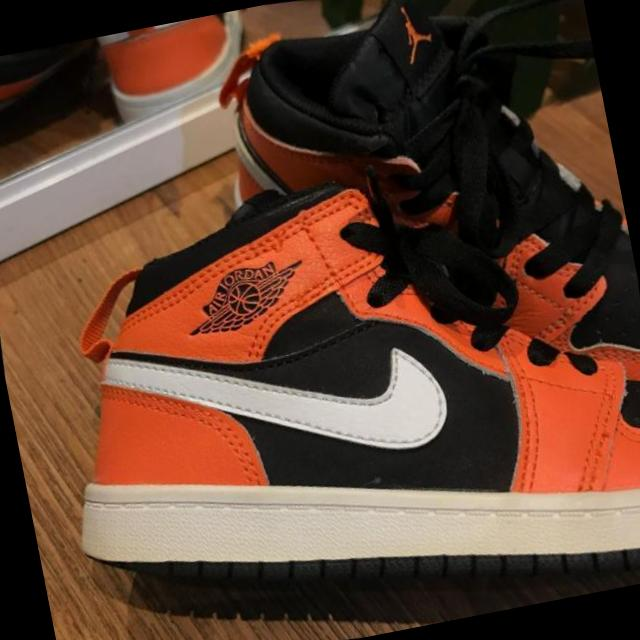nike_fake_jordan: (11, 105, 640, 640), (188, 0, 640, 401)
